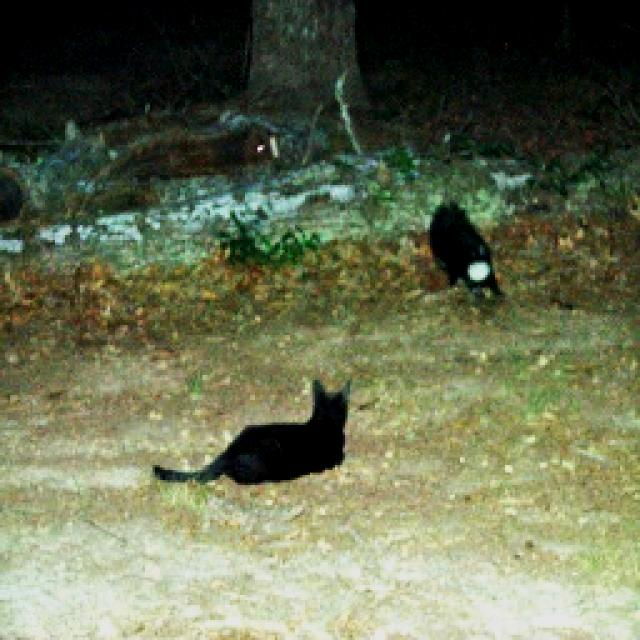cat: (118, 359, 370, 503), (407, 176, 550, 328)
